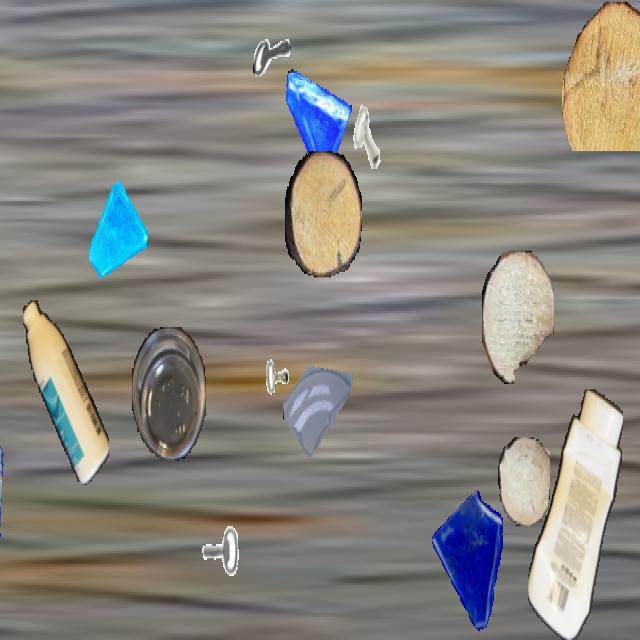glass: (428, 489, 512, 638), (283, 336, 355, 464), (282, 64, 352, 188), (89, 182, 147, 284), (0, 404, 9, 556)
metal: (342, 92, 394, 185), (191, 522, 241, 612), (250, 355, 298, 441), (253, 21, 291, 89)
plastic: (528, 390, 622, 638), (23, 300, 109, 486), (132, 327, 206, 459)
wood: (562, 2, 640, 151), (285, 151, 361, 276), (482, 251, 554, 382), (498, 438, 550, 526)
